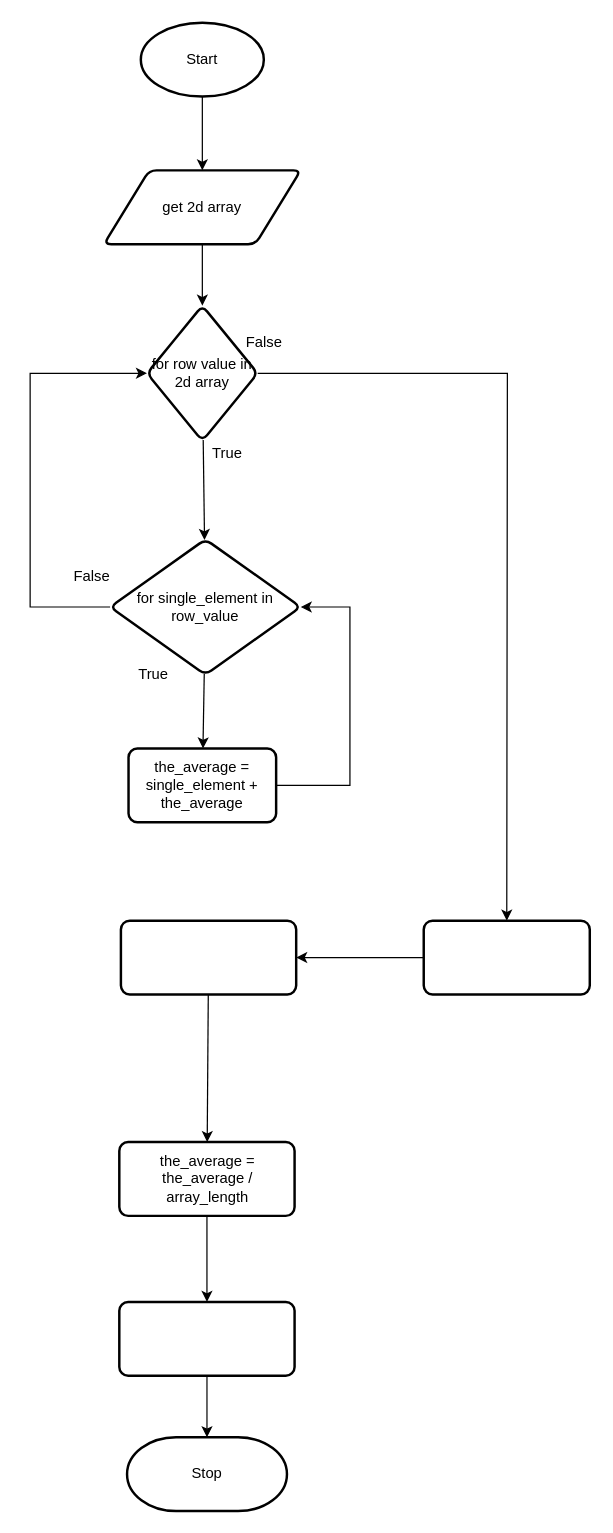
Some shapes in this 613 by 1533 pixel diagram are drawn without their labels. Each missing label, with the centre of its shape:
"array_length = array_length * len(passed_in_2D_list[0])" goes at (x=208, y=957).
"array_length = len(passed_in_2D_list)" goes at (x=506, y=957).
"return the_average" goes at (x=206, y=1338).
